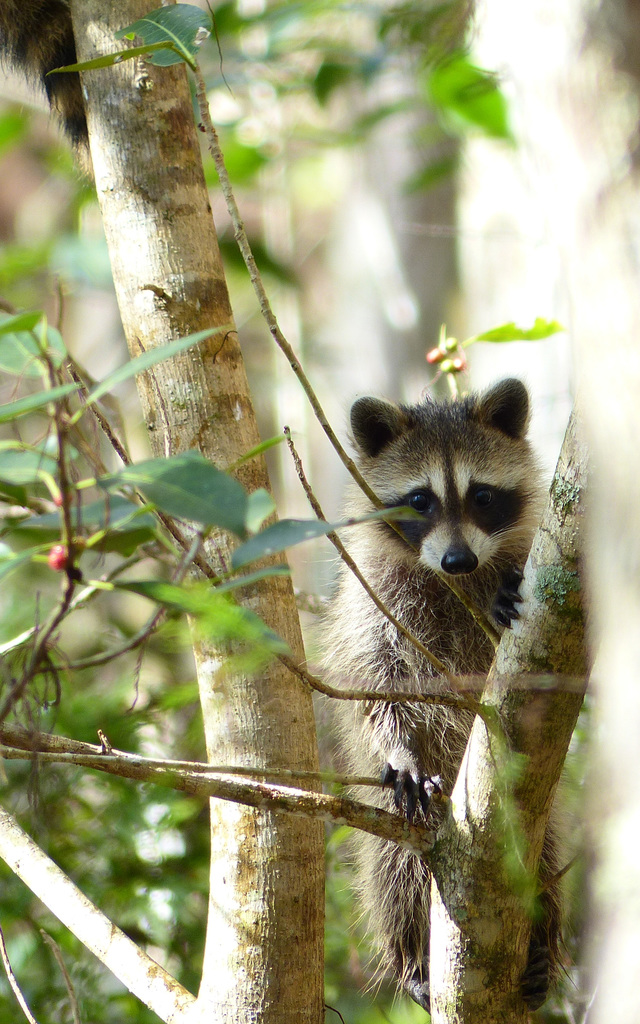raccoon: (327, 378, 564, 1011)
